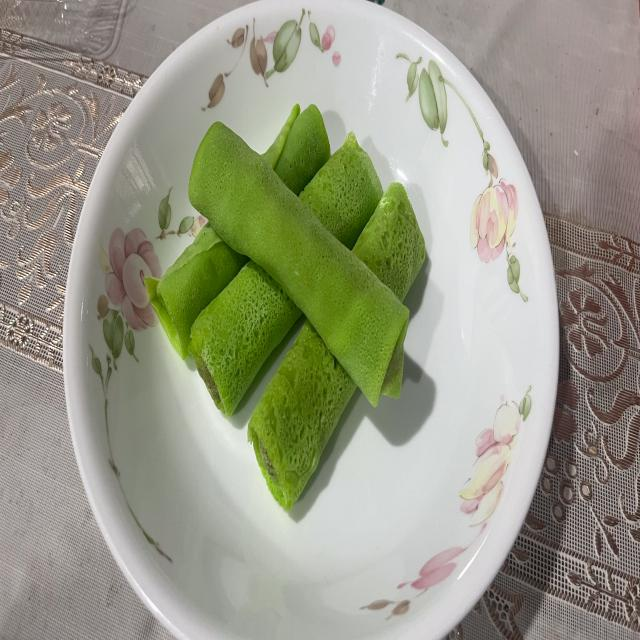Kuih-Ketayap: (189, 122, 409, 407), (248, 322, 356, 509), (189, 262, 301, 416), (145, 224, 248, 358), (300, 133, 382, 249), (352, 182, 425, 302), (261, 104, 330, 196)
